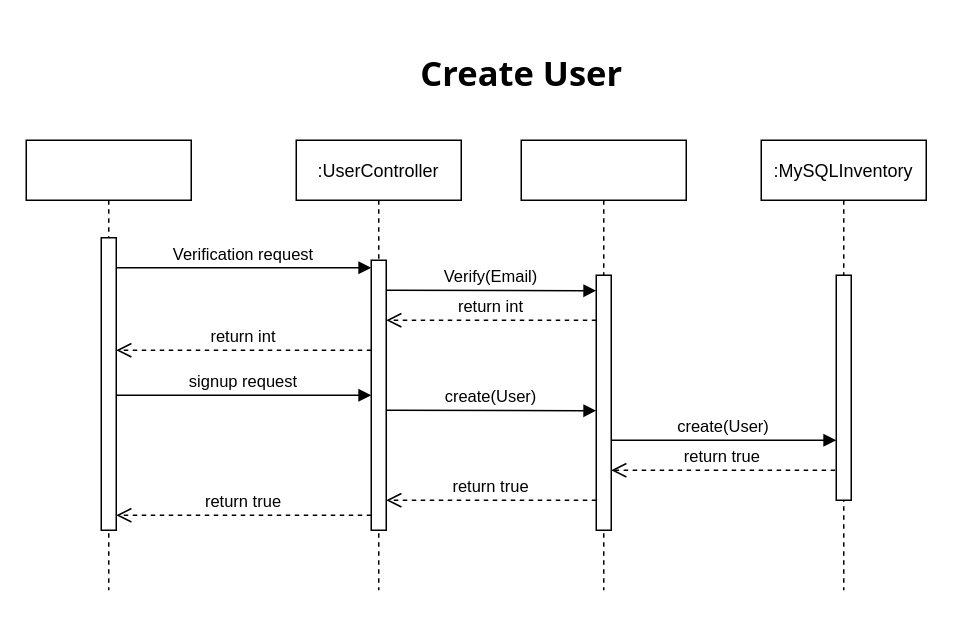
Some shapes in this 953 by 617 pixel diagram are drawn without their labels. The shapes that lost their labels are listed below. From the top down, each one's box as (x1, y1, x2, y2) in pixels, then its label:
(25, 139, 191, 590): :WebApp
(520, 139, 686, 590): :UserService
